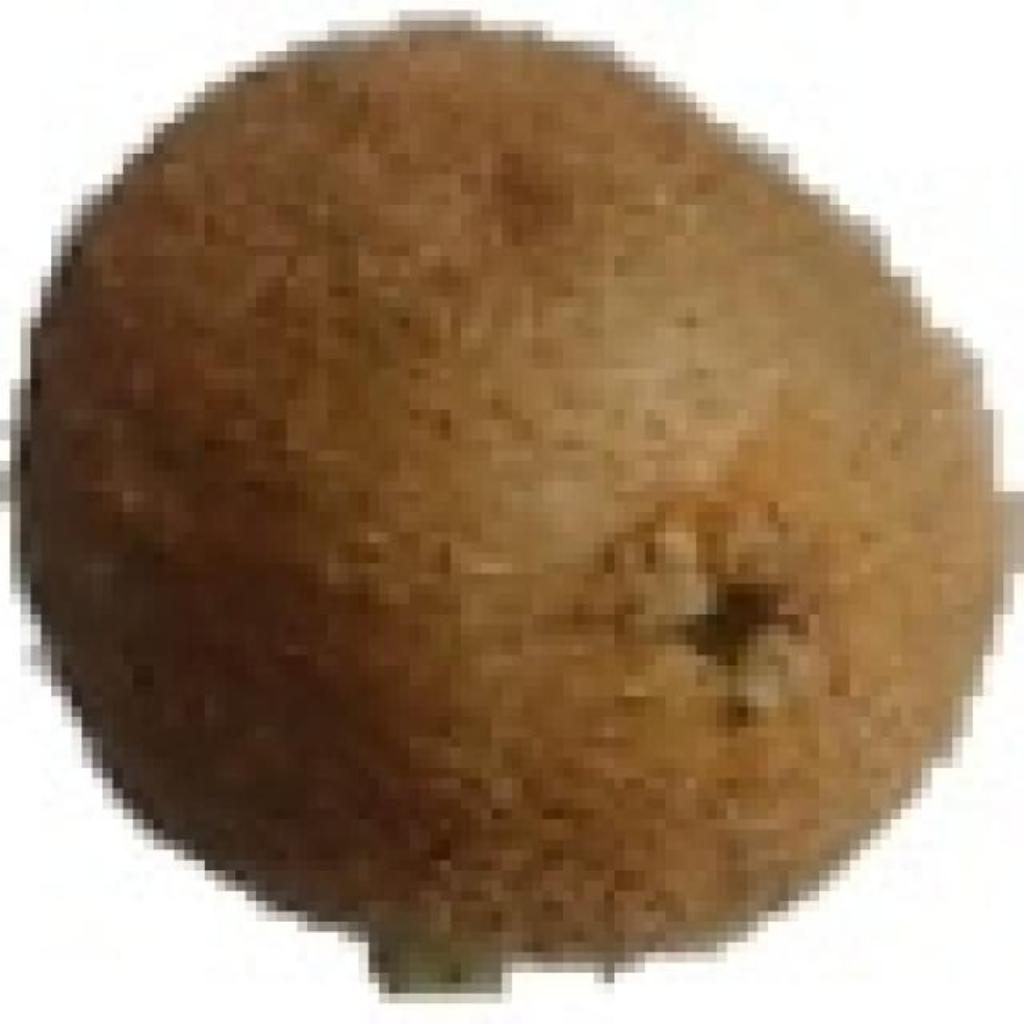kiwi: (41, 10, 1014, 963)
